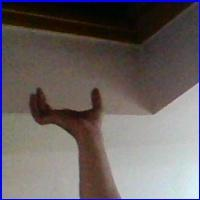space: (25, 83, 113, 137)
